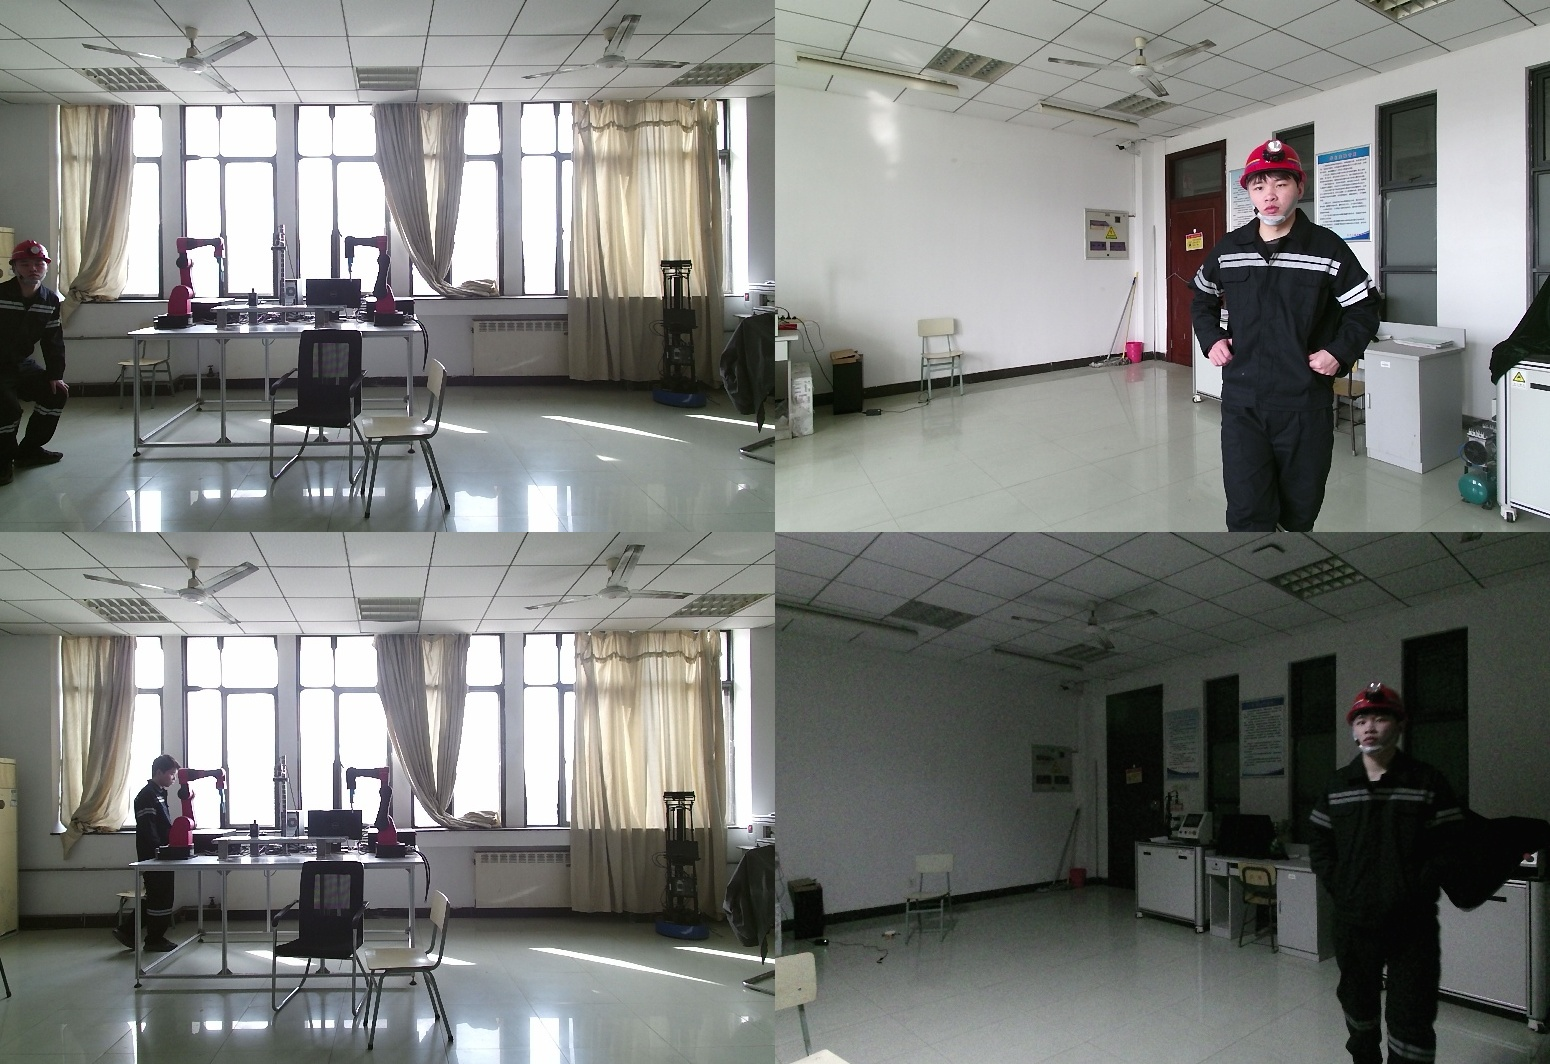person: (1191, 132, 1406, 532), (1295, 689, 1481, 1064), (1, 241, 81, 483), (118, 753, 193, 959)
